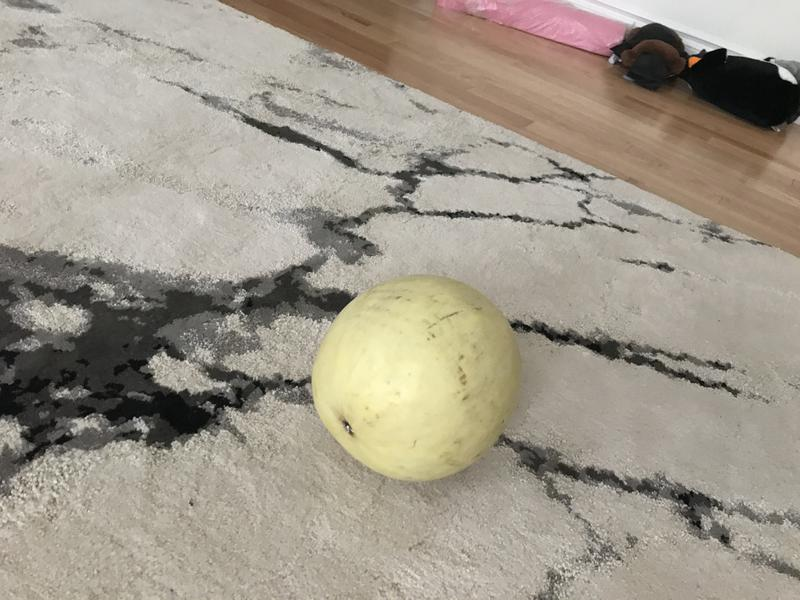honeydew: (300, 269, 532, 492)
